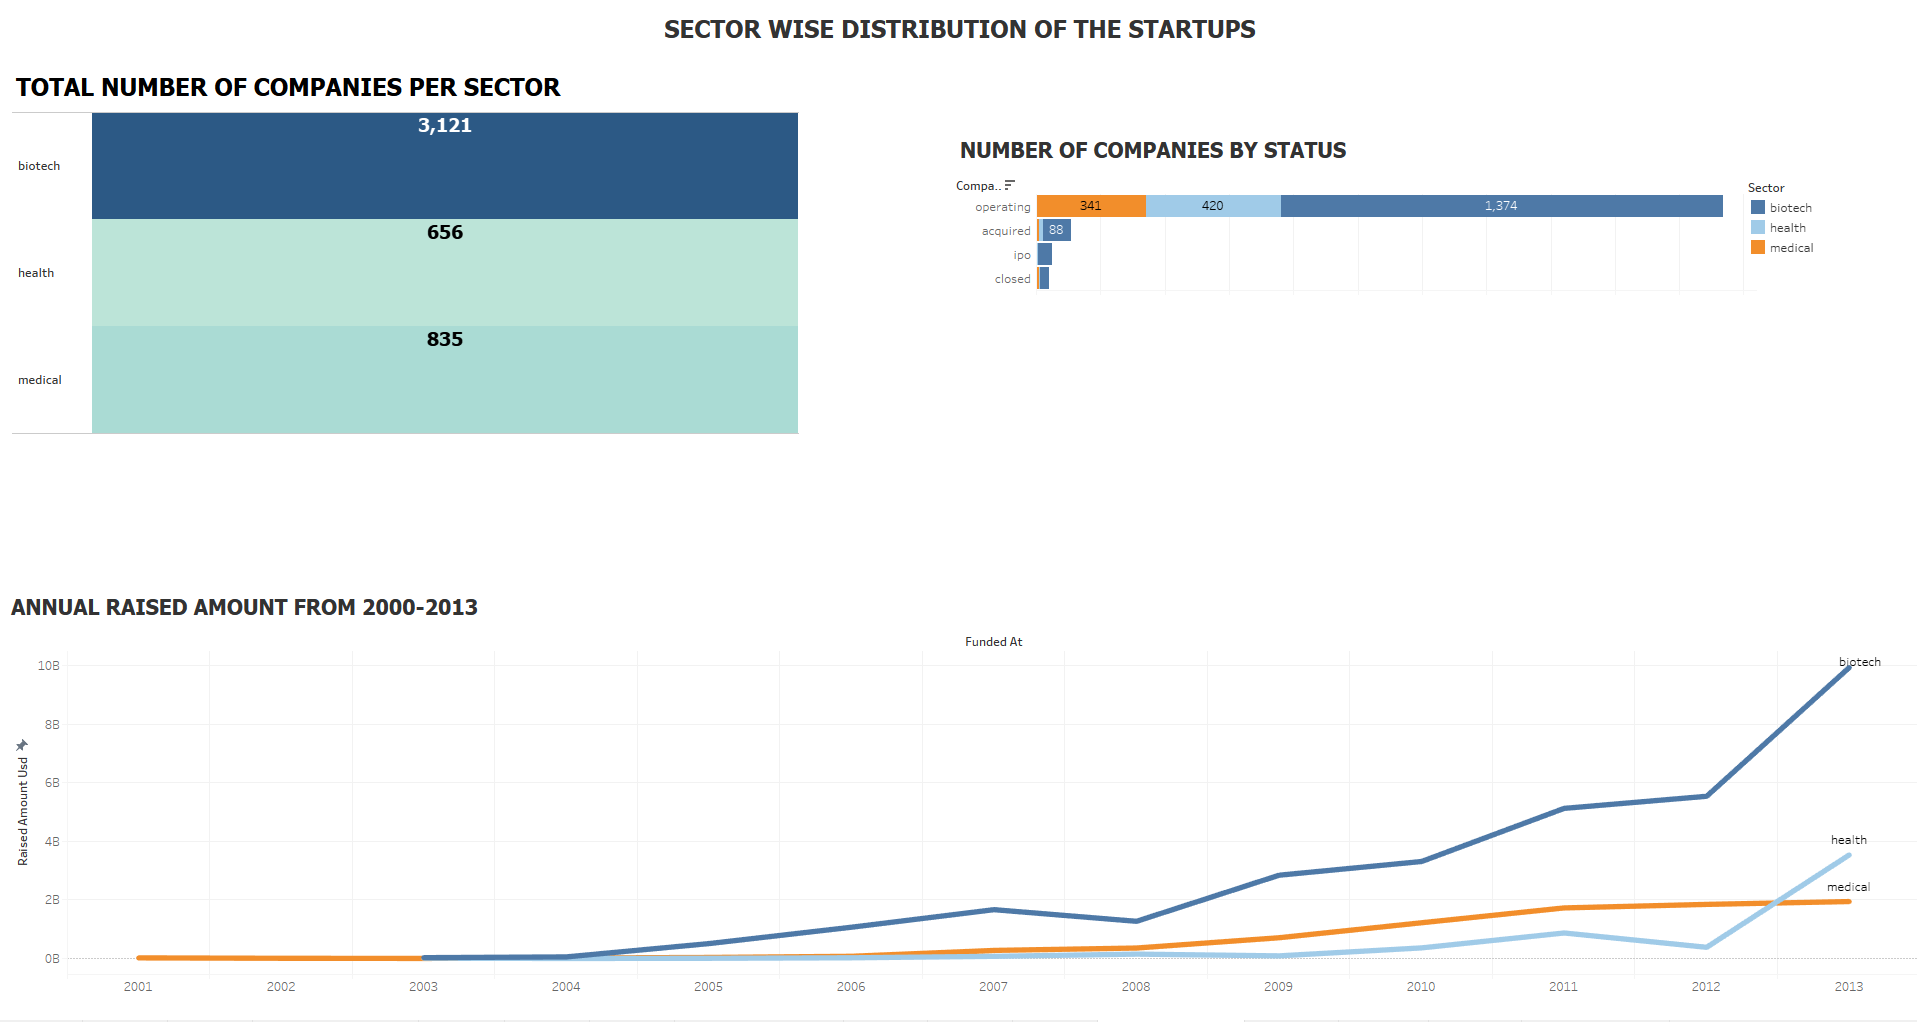

This screenshot's page, from the dashboard's own definition file:
{"tool":"tableau","page":{"name":"Dashboard 3","canvas":[1000,1000],"units":"permille","ordinal":2},"visuals":[{"type":"worksheet","box":[0,0,1000,1000]},{"type":"worksheet","param":"horz","box":[4.7,8.8,990.6,982.5]},{"type":"worksheet","param":"horz","box":[4.7,8.8,990.6,982.5]},{"type":"worksheet","param":"vert","box":[4.7,8.8,990.6,982.5]},{"type":"worksheet","box":[4.7,8.8,990.6,77.7]},{"type":"worksheet","title":"Sheet 7","mark":"Square","rows":["Sector"],"box":[4.7,86.4,990.6,425.6]},{"type":"worksheet","title":"Sheet 8","mark":"Automatic","rows":["Company_Status"],"cols":["id"],"box":[498.1,143,417.1,534.9]},{"type":"worksheet","title":"Sheet 8","mark":"Automatic","rows":["Company_Status"],"cols":["id"],"param":"[federated.0fdtdg700kj9tb10wc7ks0fwpb5f].[none:Sector:nk]","box":[910.2,187.5,87.3,121.4]},{"type":"worksheet","title":"Sheet 9","mark":"Automatic","rows":["raised_amount_usd"],"cols":["funded_at"],"box":[3.7,584.1,996.3,412.3]}]}

Visuals, with their boxes on the dashboard's canvas, which has no fixed pixel size, in thousandths of its width and height (x1, y1, x2, y2). These are canvas units, not pixel positions in the 1917x1022 screenshot, which may show the page scaled, cropped or inside an application window:
worksheet: bbox(0, 0, 1000, 1000)
worksheet: bbox(5, 9, 995, 991)
worksheet: bbox(5, 9, 995, 991)
worksheet: bbox(5, 9, 995, 991)
worksheet: bbox(5, 9, 995, 86)
"Sheet 7" worksheet (Square marks): bbox(5, 86, 995, 512)
"Sheet 8" worksheet: bbox(498, 143, 915, 678)
"Sheet 8" worksheet: bbox(910, 188, 998, 309)
"Sheet 9" worksheet: bbox(4, 584, 1000, 996)
